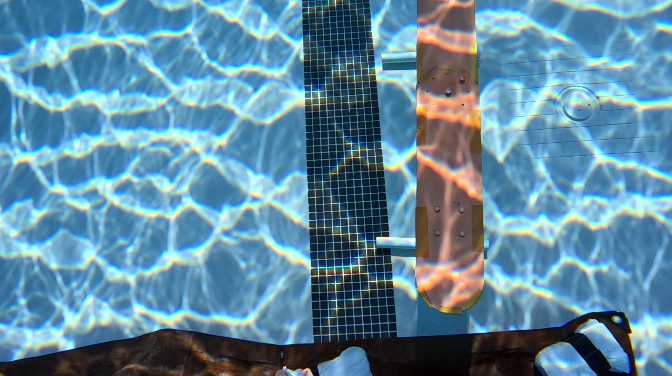pathmarker: (416, 0, 484, 313)
sandbag: (0, 311, 634, 374)
